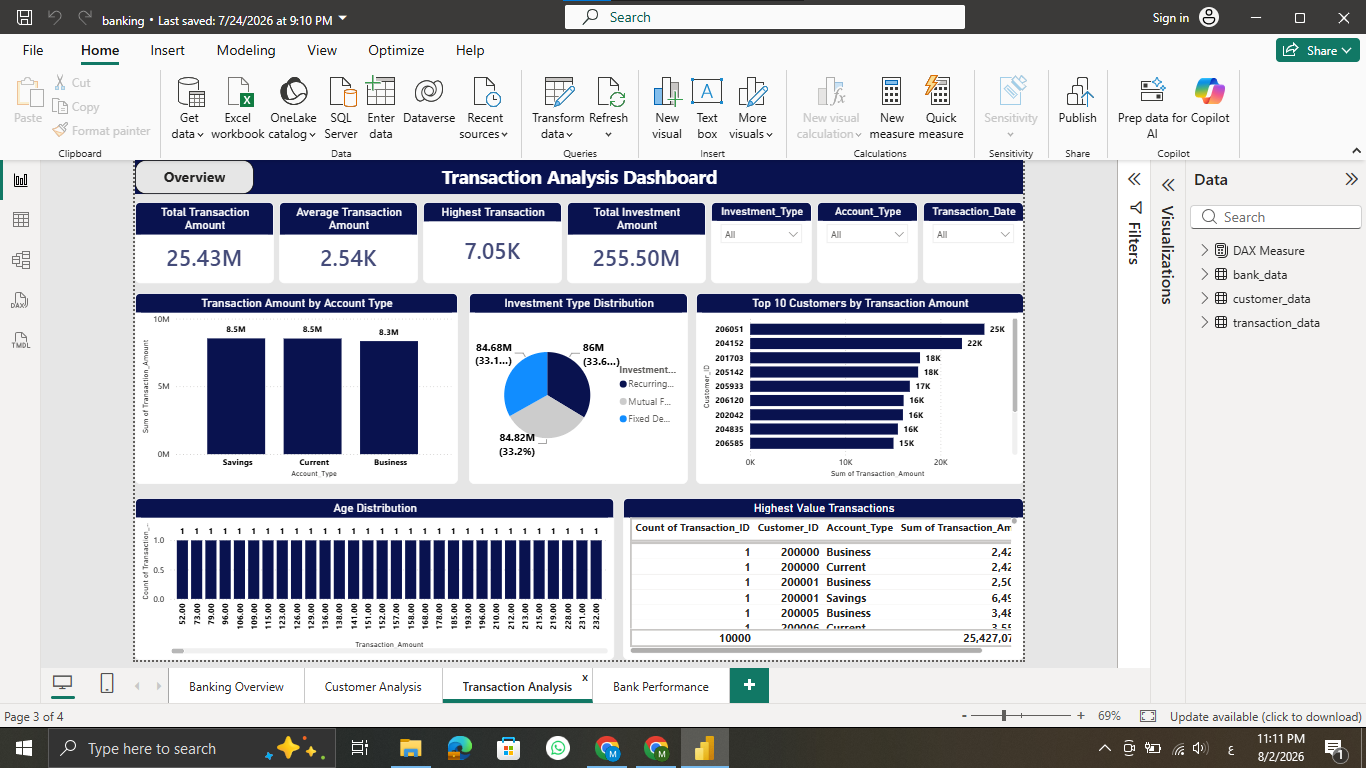

Layout of this report page (visuals, bound fields, positions):
{"tool":"powerbi","page":{"name":"Transaction Analysis","canvas":[1280,720],"ordinal":2},"visuals":[{"type":"textbox","box":[0,0,1280.2,49],"z":0},{"type":"cardVisual","title":"Total Transaction Amount","fields":{"Data":["DAX Measure.Total Transaction Amount"]},"box":[0,60.5,200.2,116.6],"z":1},{"type":"cardVisual","title":"Average Transaction Amount","fields":{"Data":["DAX Measure.Average Transaction Amount"]},"box":[207.4,60.5,200.2,116.6],"z":2},{"type":"cardVisual","title":"Total Investment Amount","fields":{"Data":["DAX Measure.Total Investment Amount"]},"box":[622.1,60.5,200.2,116.6],"z":4},{"type":"cardVisual","title":"Highest Transaction","fields":{"Data":["DAX Measure.Highest Transaction"]},"box":[414.7,60.5,200.2,116.6],"z":5},{"type":"slicer","title":"Investment_Type","fields":{"Values":["transaction_data.Investment_Type"]},"box":[829.4,60.5,145.4,116.6],"z":6},{"type":"slicer","title":"Account_Type","fields":{"Values":["transaction_data.Account_Type"]},"box":[982.1,60.5,145.4,116.6],"z":7},{"type":"slicer","title":"Transaction_Date","fields":{"Values":["transaction_data.Transaction_Date"]},"box":[1134.6,60.5,145.4,116.6],"z":8},{"type":"pieChart","title":"Investment Type Distribution","fields":{"Category":["transaction_data.Investment_Type"],"Y":["Sum(transaction_data.Investment_Amount)"]},"box":[481,191.5,315.4,275],"z":9},{"type":"clusteredColumnChart","title":"Transaction Amount by Account Type","fields":{"Category":["transaction_data.Account_Type"],"Y":["Sum(transaction_data.Transaction_Amount)"]},"box":[0,191.5,465.1,275],"z":10},{"type":"clusteredBarChart","title":"Top 10 Customers by Transaction Amount","fields":{"Category":["transaction_data.Customer_ID"],"Y":["Sum(transaction_data.Transaction_Amount)"]},"box":[807.8,191.5,472.3,275],"z":11},{"type":"tableEx","title":"Highest Value Transactions","fields":{"Values":["CountNonNull(transaction_data.Transaction_ID)","transaction_data.Customer_ID","transaction_data.Account_Type","Sum(transaction_data.Transaction_Amount)"]},"box":[702.7,486.7,577.4,233.3],"z":12},{"type":"columnChart","title":"Age Distribution","fields":{"Y":["CountNonNull(transaction_data.Transaction_ID)"],"Category":["transaction_data.Transaction_Amount"]},"box":[0,486.7,689.8,233.3],"z":13},{"type":"actionButton","box":[0,0,171.4,49],"z":14}]}

Visuals, with their boxes on the page's 1280x720 design canvas (x1, y1, x2, y2). These are canvas units, not pixel positions in the 1366x768 screenshot, which may show the page scaled, cropped or inside an application window:
textbox: [0,0,1280,49]
"Total Transaction Amount" cardVisual: [0,60,200,177]
"Average Transaction Amount" cardVisual: [207,60,408,177]
"Total Investment Amount" cardVisual: [622,60,822,177]
"Highest Transaction" cardVisual: [415,60,615,177]
"Investment_Type" slicer: [829,60,975,177]
"Account_Type" slicer: [982,60,1128,177]
"Transaction_Date" slicer: [1135,60,1280,177]
"Investment Type Distribution" pieChart: [481,192,796,466]
"Transaction Amount by Account Type" clusteredColumnChart: [0,192,465,466]
"Top 10 Customers by Transaction Amount" clusteredBarChart: [808,192,1280,466]
"Highest Value Transactions" tableEx: [703,487,1280,720]
"Age Distribution" columnChart: [0,487,690,720]
actionButton: [0,0,171,49]
